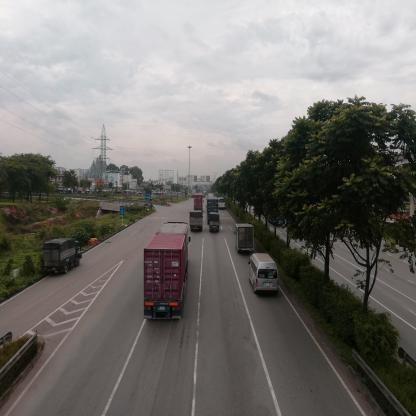car: (250, 253, 279, 295)
container: (145, 224, 189, 320), (195, 194, 205, 212), (208, 200, 219, 212)
truck: (44, 238, 84, 273), (237, 225, 255, 251), (191, 213, 204, 233), (211, 214, 221, 233)
